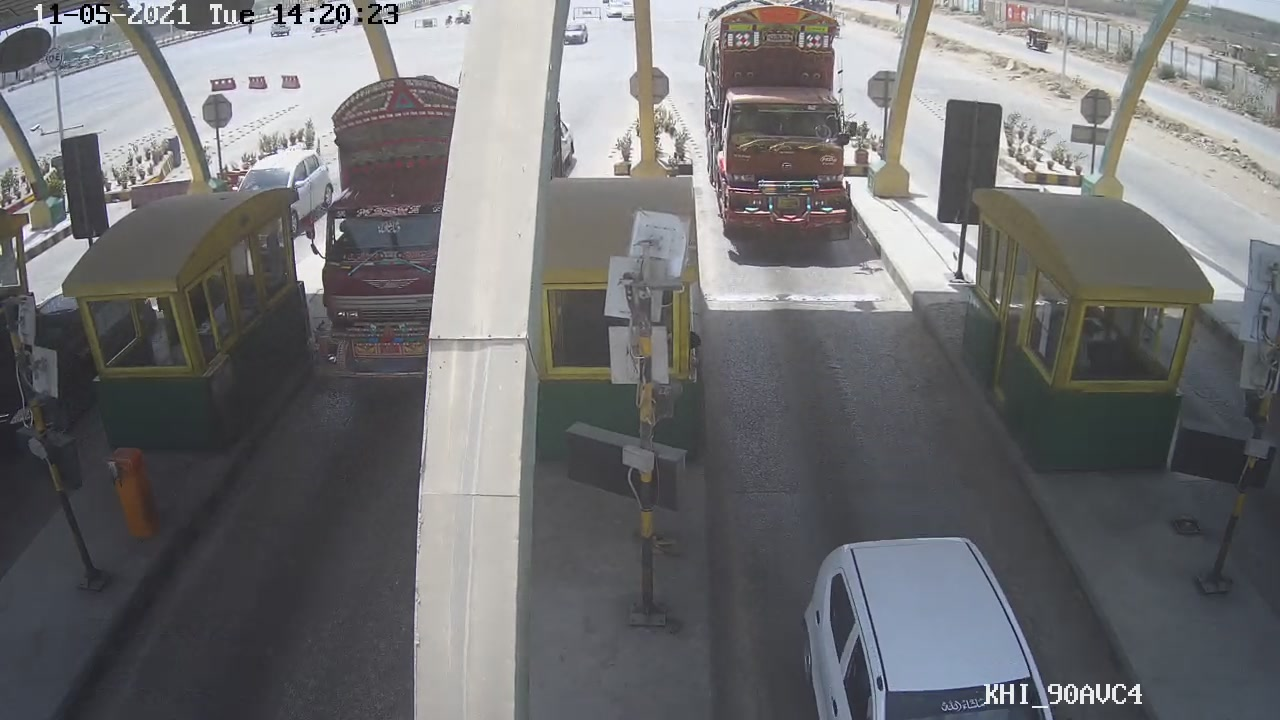F5: (704, 1, 847, 254)
